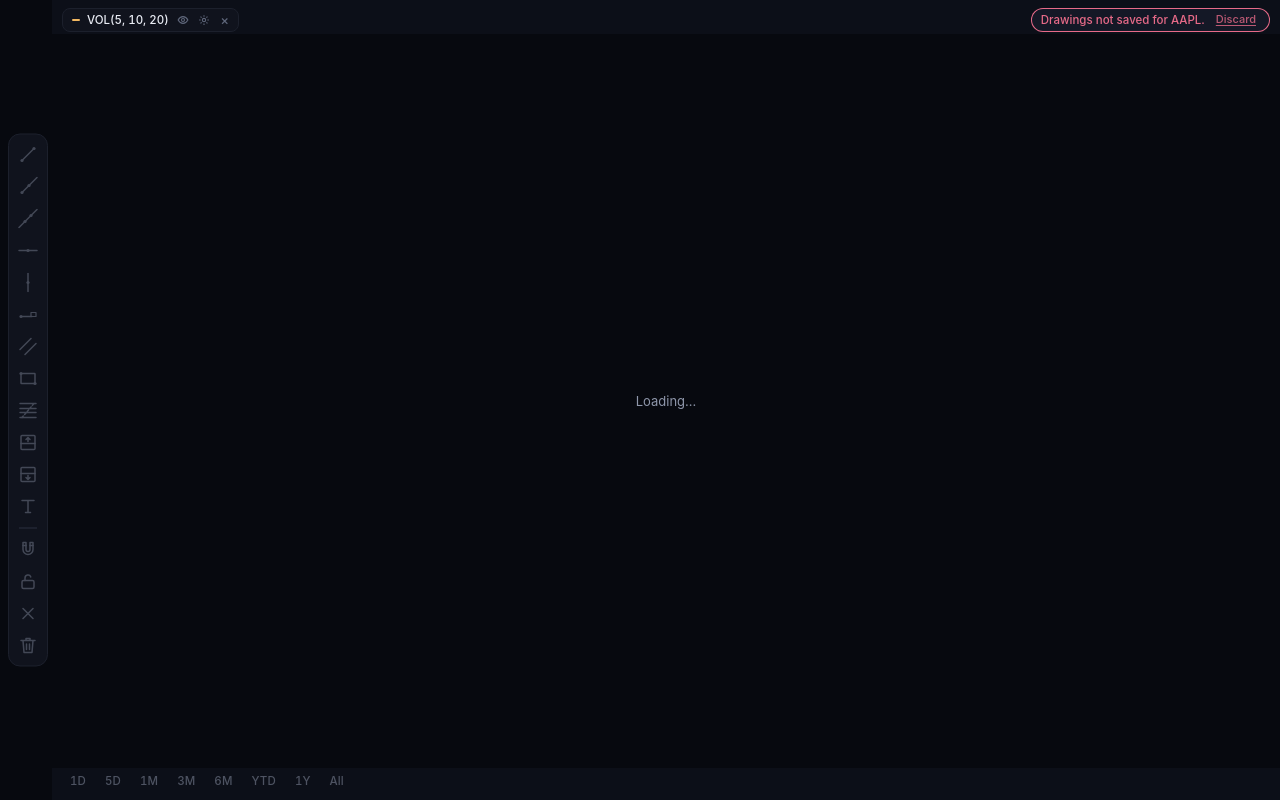
Test: ChartView › discarding the charted symbol's rejected drawings reloads the server's drawings onto the chart
Check: the message shows "Drawings not saved for AAPL.", box top-left (1041, 13), bottom-right (1205, 27)
Step 1. Click the button "Discard" → [1236, 20], box top-left (1212, 11), bottom-right (1260, 29)
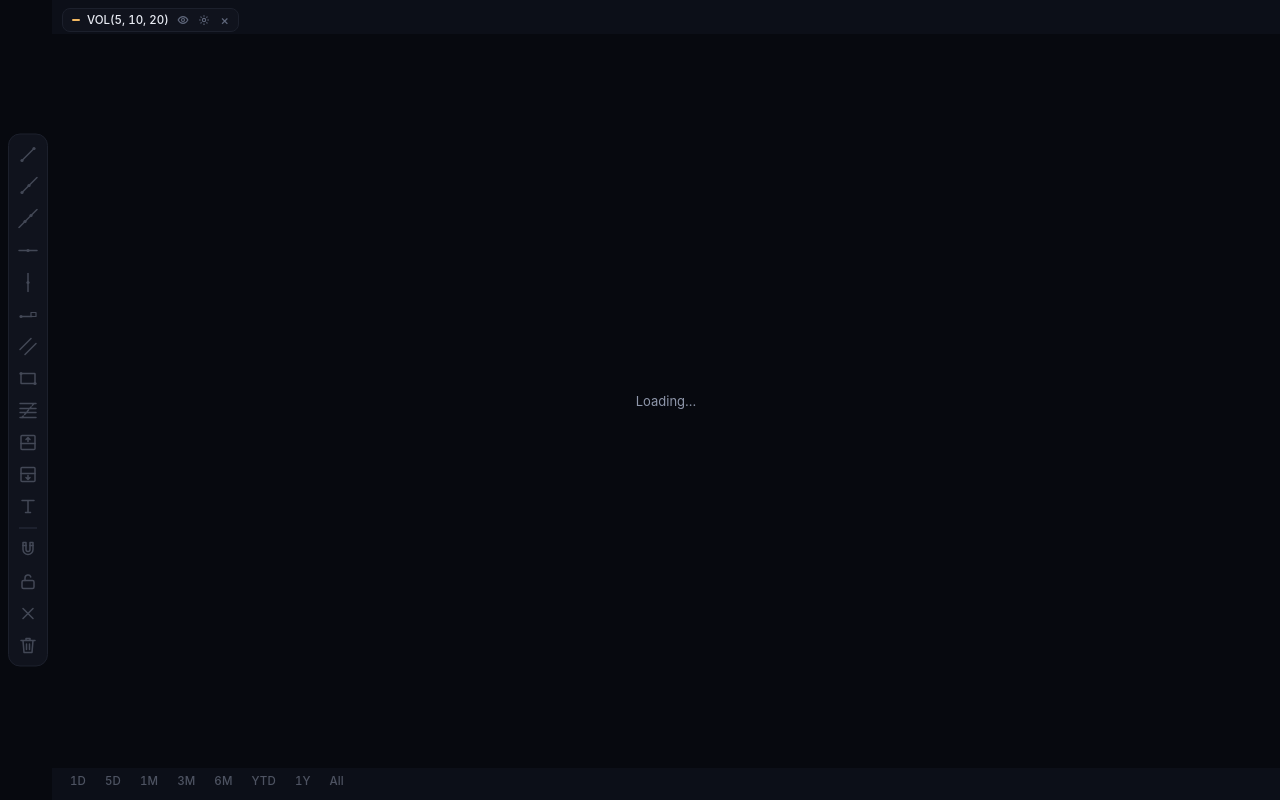
Check: the message "Drawings not saved for AAPL. Discard" is gone
